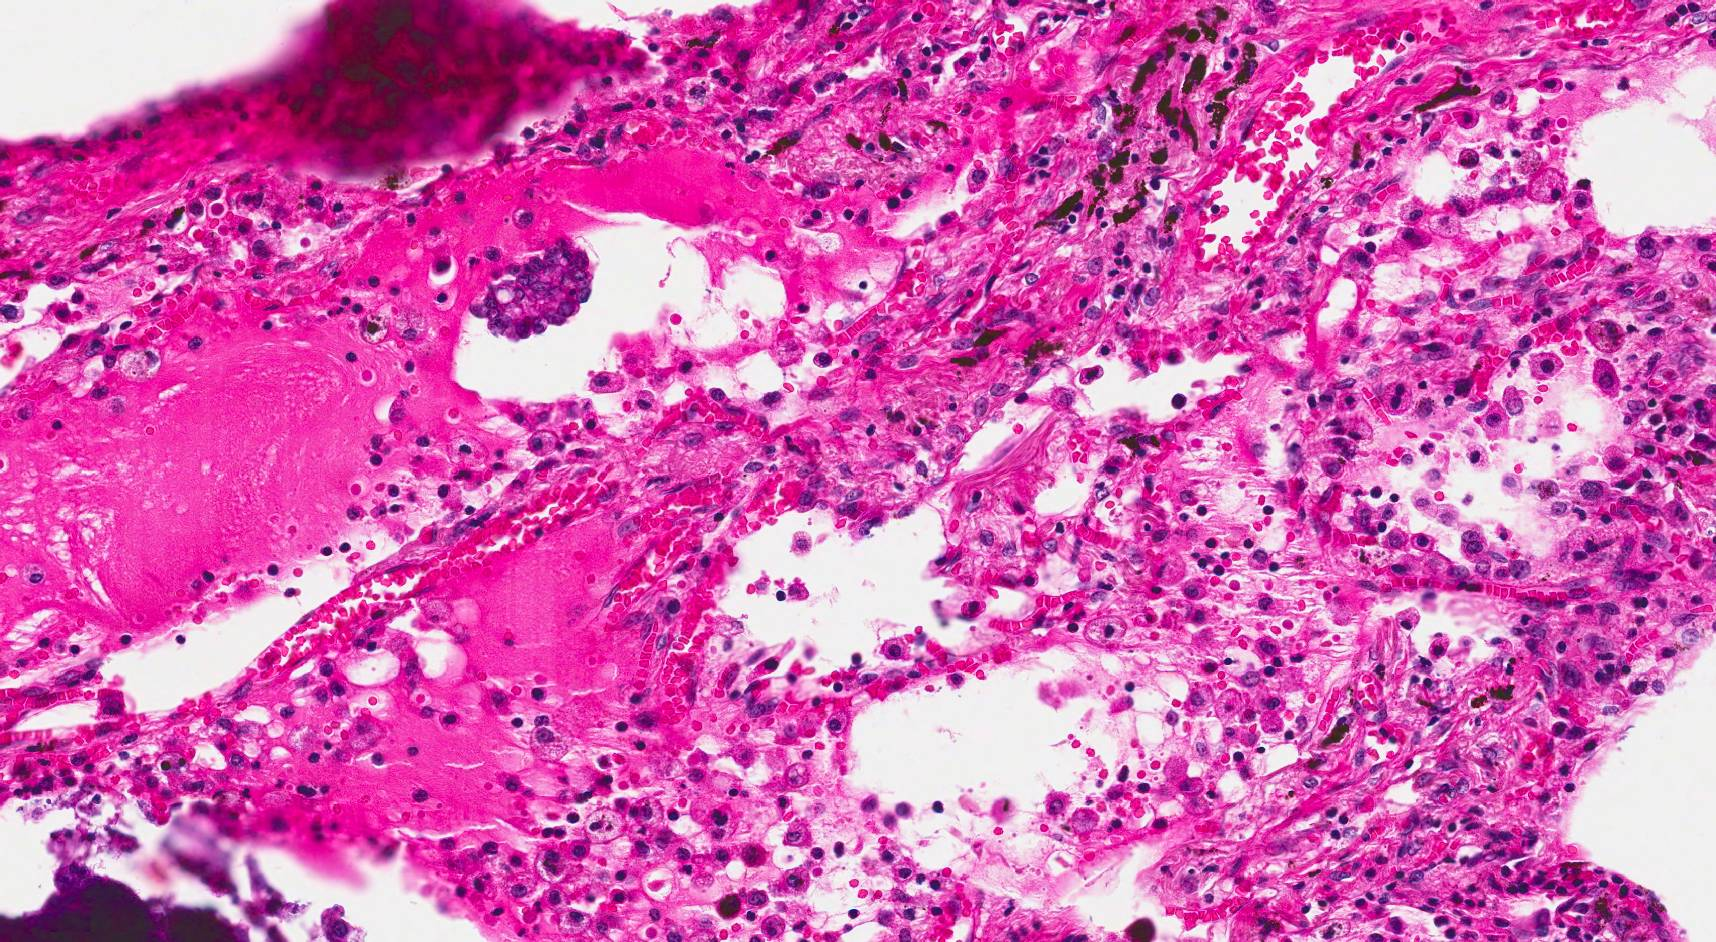stas: (466, 237, 600, 345)
